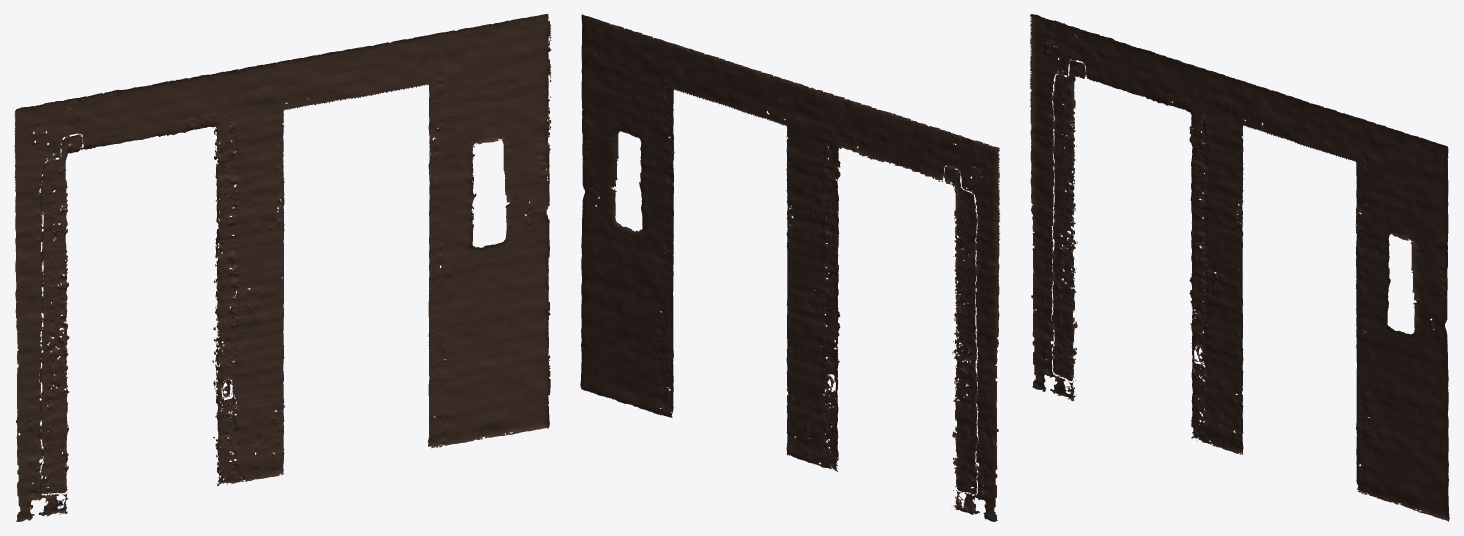
File: coarse.glb
3 views of the same model, side by side, from view 1: azimuth 30°, elevation 25°; view 2: azimuth 150°, elevation 25°; view 3: azimuth 330°, elevation 25° (orthographic). The views are drawn at different scales.
Bounding box in the file's own units: 3.01 × 2.38 × 0.4078.
2 materials, 2 textured.
